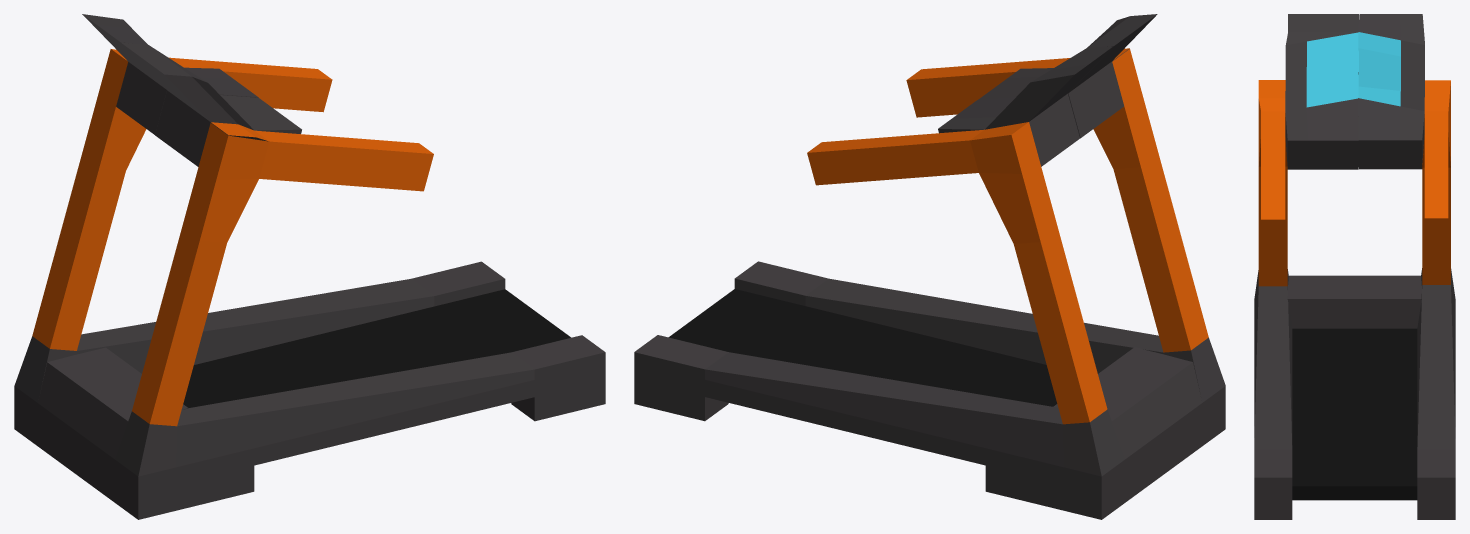
Rendered from Treadmil.fbx.
The picture shows the model from 3 angles, left to right: view 1: azimuth 30°, elevation 25°; view 2: azimuth 150°, elevation 25°; view 3: azimuth 270°, elevation 25°; orthographic projection. The views are drawn at different scales.
Parts seen in each view (by area): view 1: Cube; view 2: Cube; view 3: Cube.
Boxes of the visible parts, x1,y1,x2,y2 form: Cube: [14, 14, 605, 519]; Cube: [634, 14, 1225, 519]; Cube: [1254, 14, 1455, 519].
Bounding box in the file's own units: 1402 × 1201 × 644.
